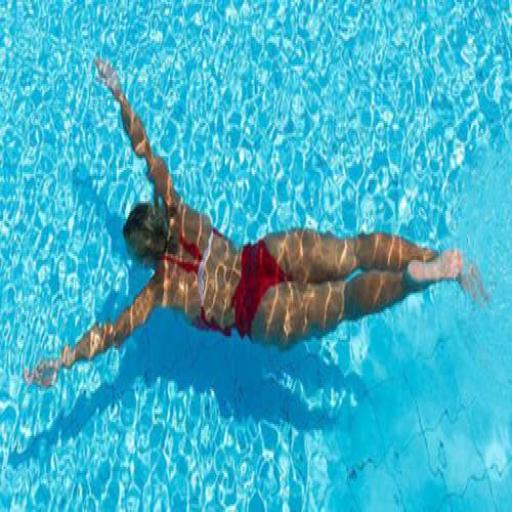swimming: (22, 51, 490, 391)
